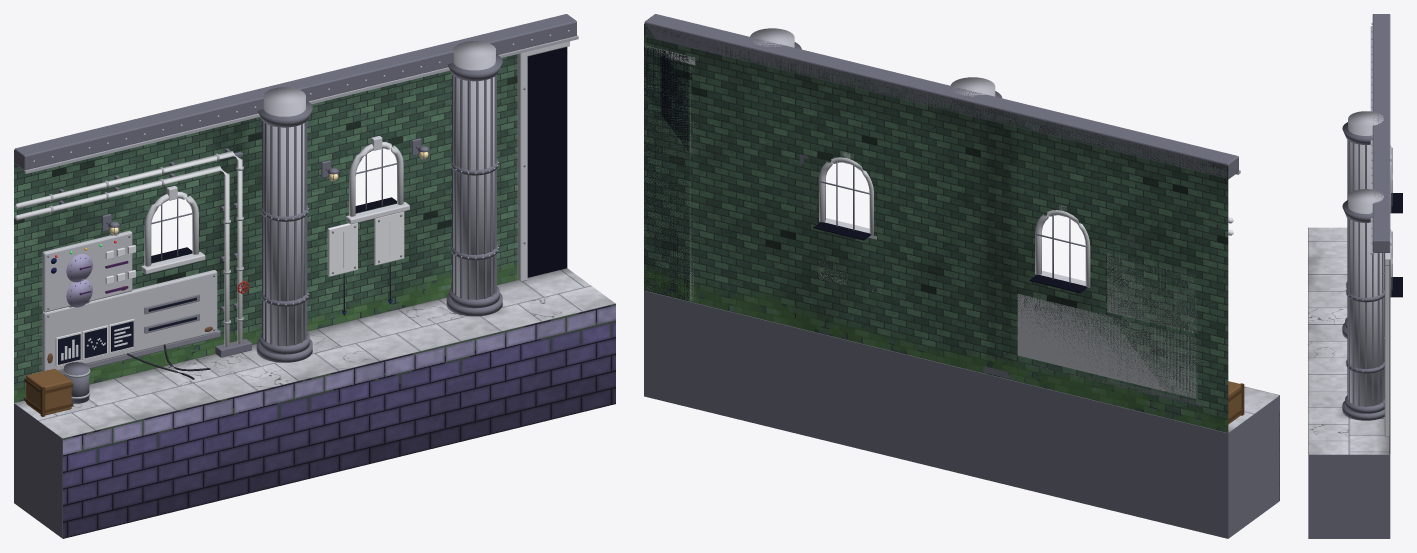
File: room.glb
The picture shows the model from 3 angles, left to right: view 1: azimuth 30°, elevation 25°; view 2: azimuth 150°, elevation 25°; view 3: azimuth 270°, elevation 25°; orthographic projection. The views are drawn at different scales.
Parts seen in each view (by area): view 1: room, room_wall, room_front, room_floor; view 2: room_wall, room, room_floor; view 3: room, room_floor.
Boxes of the visible parts, left/top/right/bottom form: room: left=14, top=14, right=578, bottom=538; room_wall: left=14, top=54, right=517, bottom=402; room_front: left=63, top=304, right=615, bottom=538; room_floor: left=14, top=268, right=615, bottom=438; room_wall: left=644, top=23, right=1228, bottom=432; room: left=644, top=14, right=1279, bottom=538; room_floor: left=1228, top=386, right=1279, bottom=432; room: left=1308, top=14, right=1402, bottom=538; room_floor: left=1308, top=227, right=1389, bottom=454.
Size of the model in its own units: 15.07 by 9.2 by 2.65.
Materials: 4 (4 with a texture image).
